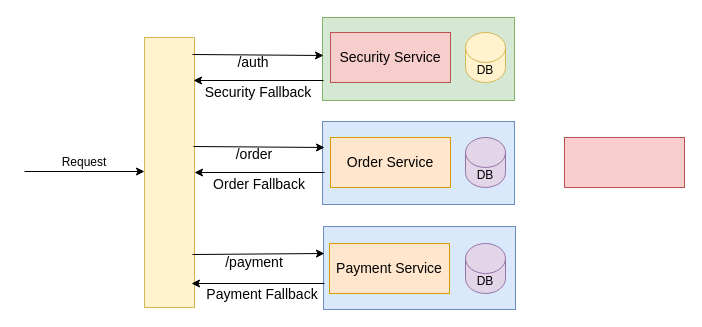
Some shapes in this 702 by 327 pixel diagram are drawn without their labels. The centre of each missing label's shape, as x and y in pixels:
"A P I G A T E W A Y" goes at pixel 169 172.
"Config Server" goes at pixel 624 162.
